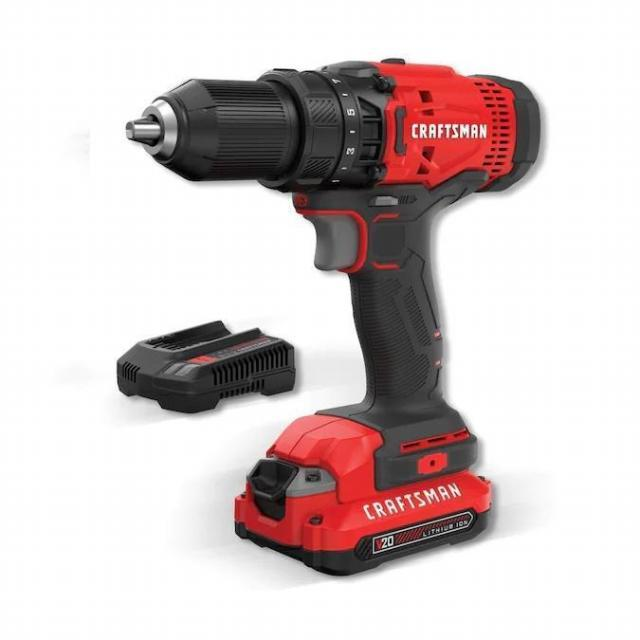drill: (125, 57, 542, 576), (116, 321, 298, 414)
